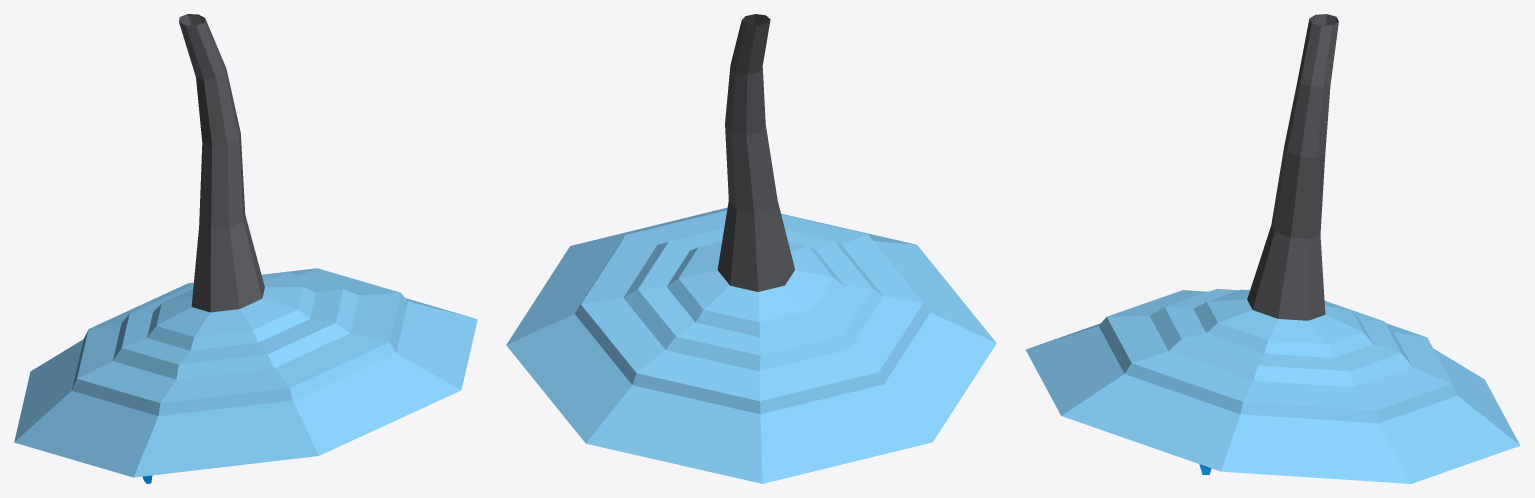
The model's file is sp_tree02.glb.
3 views of the same model, side by side, from view 1: azimuth 30°, elevation 25°; view 2: azimuth 150°, elevation 25°; view 3: azimuth 270°, elevation 25° (orthographic). The views are drawn at different scales.
Parts seen in each view (by area): view 1: SP_Tree02; view 2: SP_Tree02; view 3: SP_Tree02.
Part boxes in pixels (x1,y1,x2,y2): SP_Tree02: [14, 14, 477, 483]; SP_Tree02: [506, 14, 996, 483]; SP_Tree02: [1026, 14, 1520, 483].
Bounding box in the file's own units: 381 × 352 × 381.
1 material, 1 textured.
